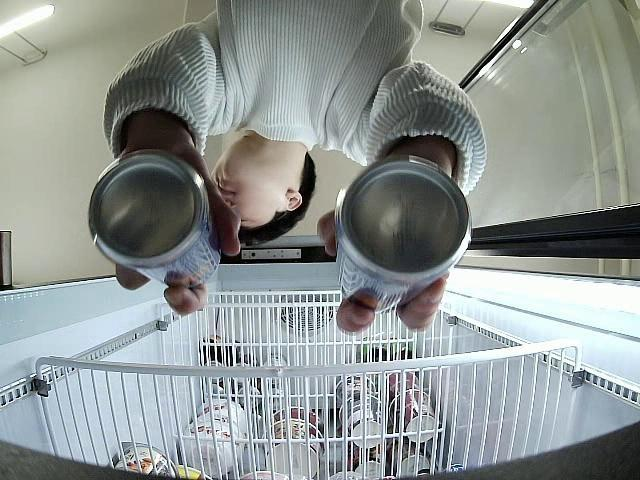16_hot6: (338, 162, 470, 310), (88, 156, 220, 288)
